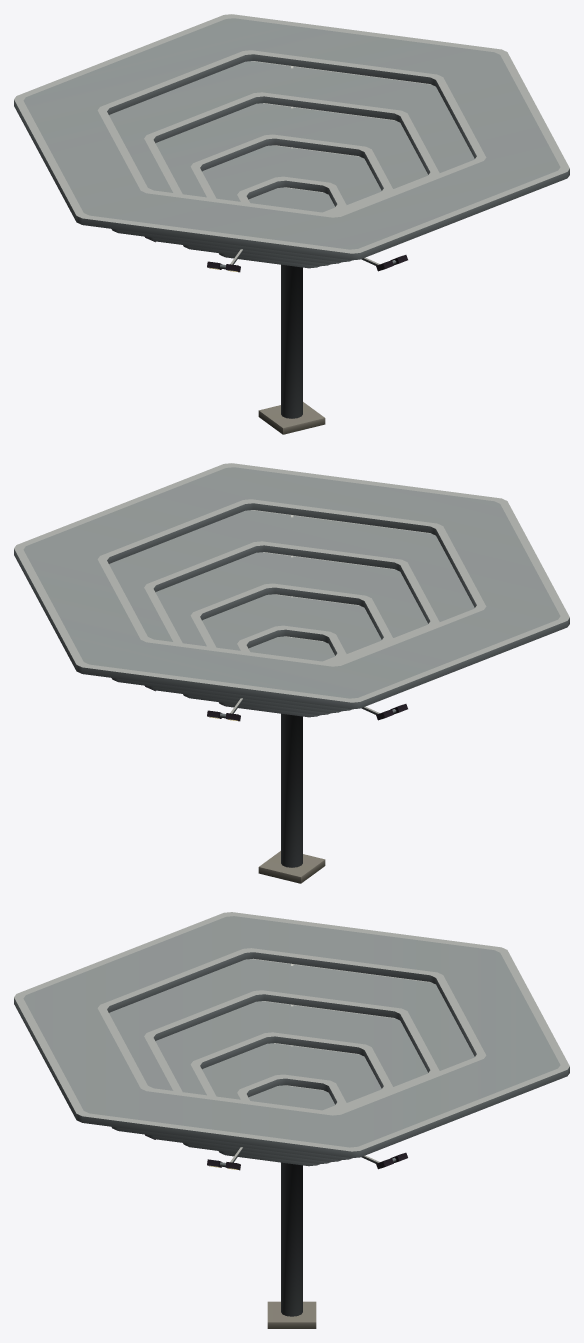
Rendered from Modular_Structure_2A.fbx.
3 views of the same model, one above another, from view 1: azimuth 30°, elevation 25°; view 2: azimuth 150°, elevation 25°; view 3: azimuth 270°, elevation 25° (orthographic).
Parts seen in each view (by area): view 1: Modular_Structure_2A; view 2: Modular_Structure_2A; view 3: Modular_Structure_2A.
Boxes of the visible parts, x1,y1,x2,y2 form: Modular_Structure_2A: (14, 14, 569, 434); Modular_Structure_2A: (14, 463, 569, 883); Modular_Structure_2A: (14, 912, 569, 1328).
Size of the model in its own units: 2329 by 1300 by 2284.
